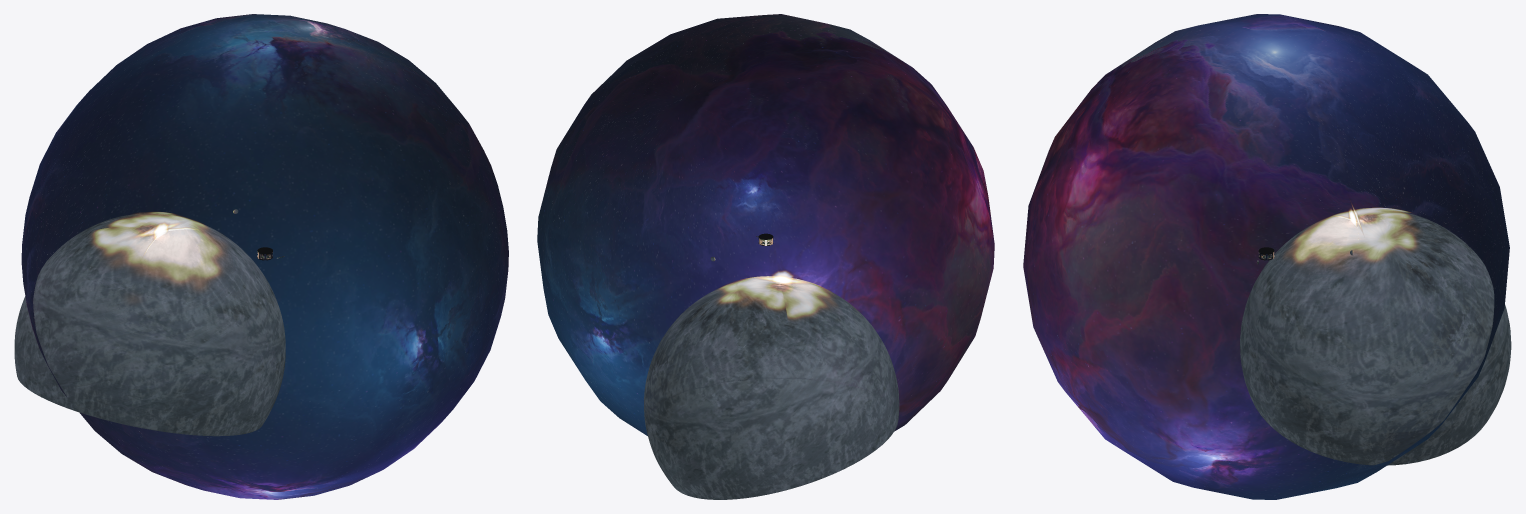
3 renders of one model, left to right at view 1: azimuth 30°, elevation 25°; view 2: azimuth 150°, elevation 25°; view 3: azimuth 270°, elevation 25°, orthographic. The views are drawn at different scales.
Parts seen in each view (by area): view 1: Domo_006_15, Planet_01_1, Planet_Rims_5; view 2: Domo_006_15, Planet_01_1, Planet_Rims_5; view 3: Domo_006_15, Planet_01_1, Planet_Rims_5.
Part boxes in pixels (<box>): Domo_006_15: <box>21,14,508,499</box>; Planet_01_1: <box>14,213,285,436</box>; Planet_Rims_5: <box>91,210,233,289</box>; Domo_006_15: <box>537,14,994,435</box>; Planet_01_1: <box>644,277,899,499</box>; Planet_Rims_5: <box>714,258,835,319</box>; Domo_006_15: <box>1023,14,1509,499</box>; Planet_01_1: <box>1240,209,1511,465</box>; Planet_Rims_5: <box>1285,203,1418,268</box>.
Size of what is drawn, in the model's own units: 647 by 647 by 650.
Materials: 13 (13 with a texture image).
